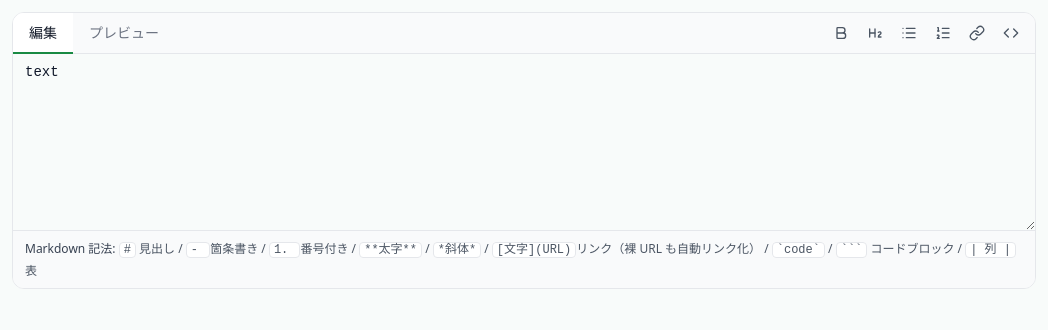
Test: MarkdownEditor › switches back from preview to edit
This screenshot has width=1048, height=330.
Click the button "プレビュー" at (124, 33), box x1=73 y1=13 x2=175 y2=53
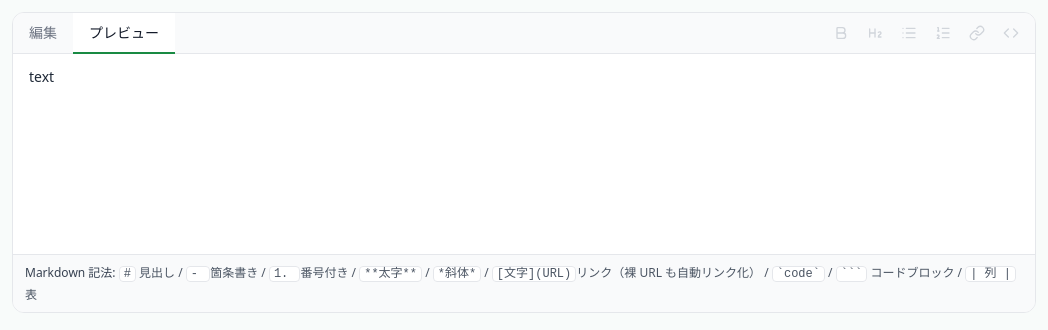
Click the button "編集" at (43, 33), box x1=13 y1=13 x2=73 y2=53
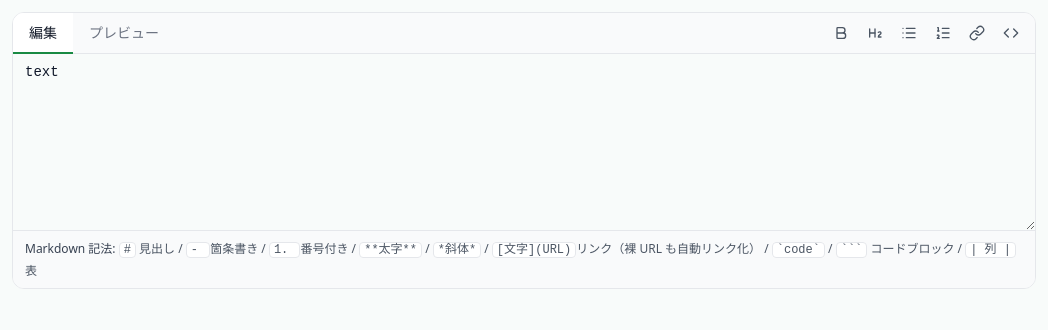
Expected: the text box is shown, x1=13 y1=54 x2=1035 y2=230
